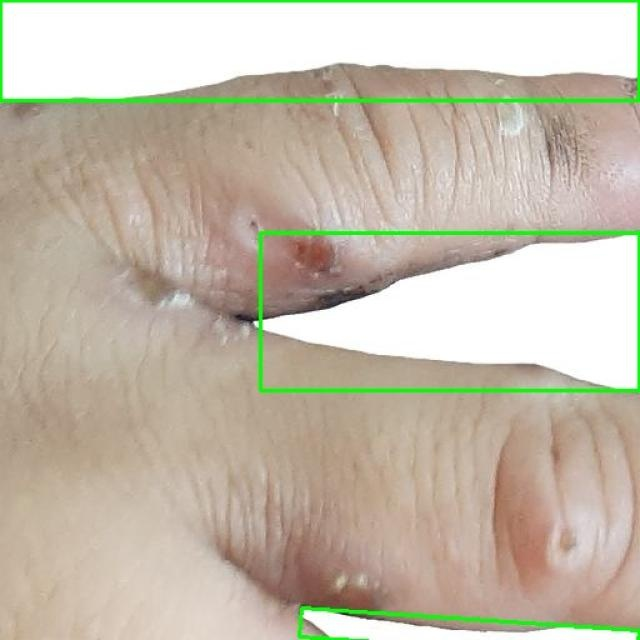Scabies: (0, 0, 639, 100), (260, 232, 639, 390), (299, 608, 639, 640)
